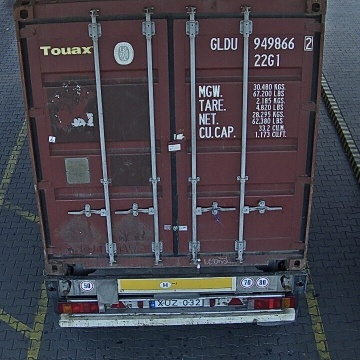serial_id: (210, 36, 313, 50)
